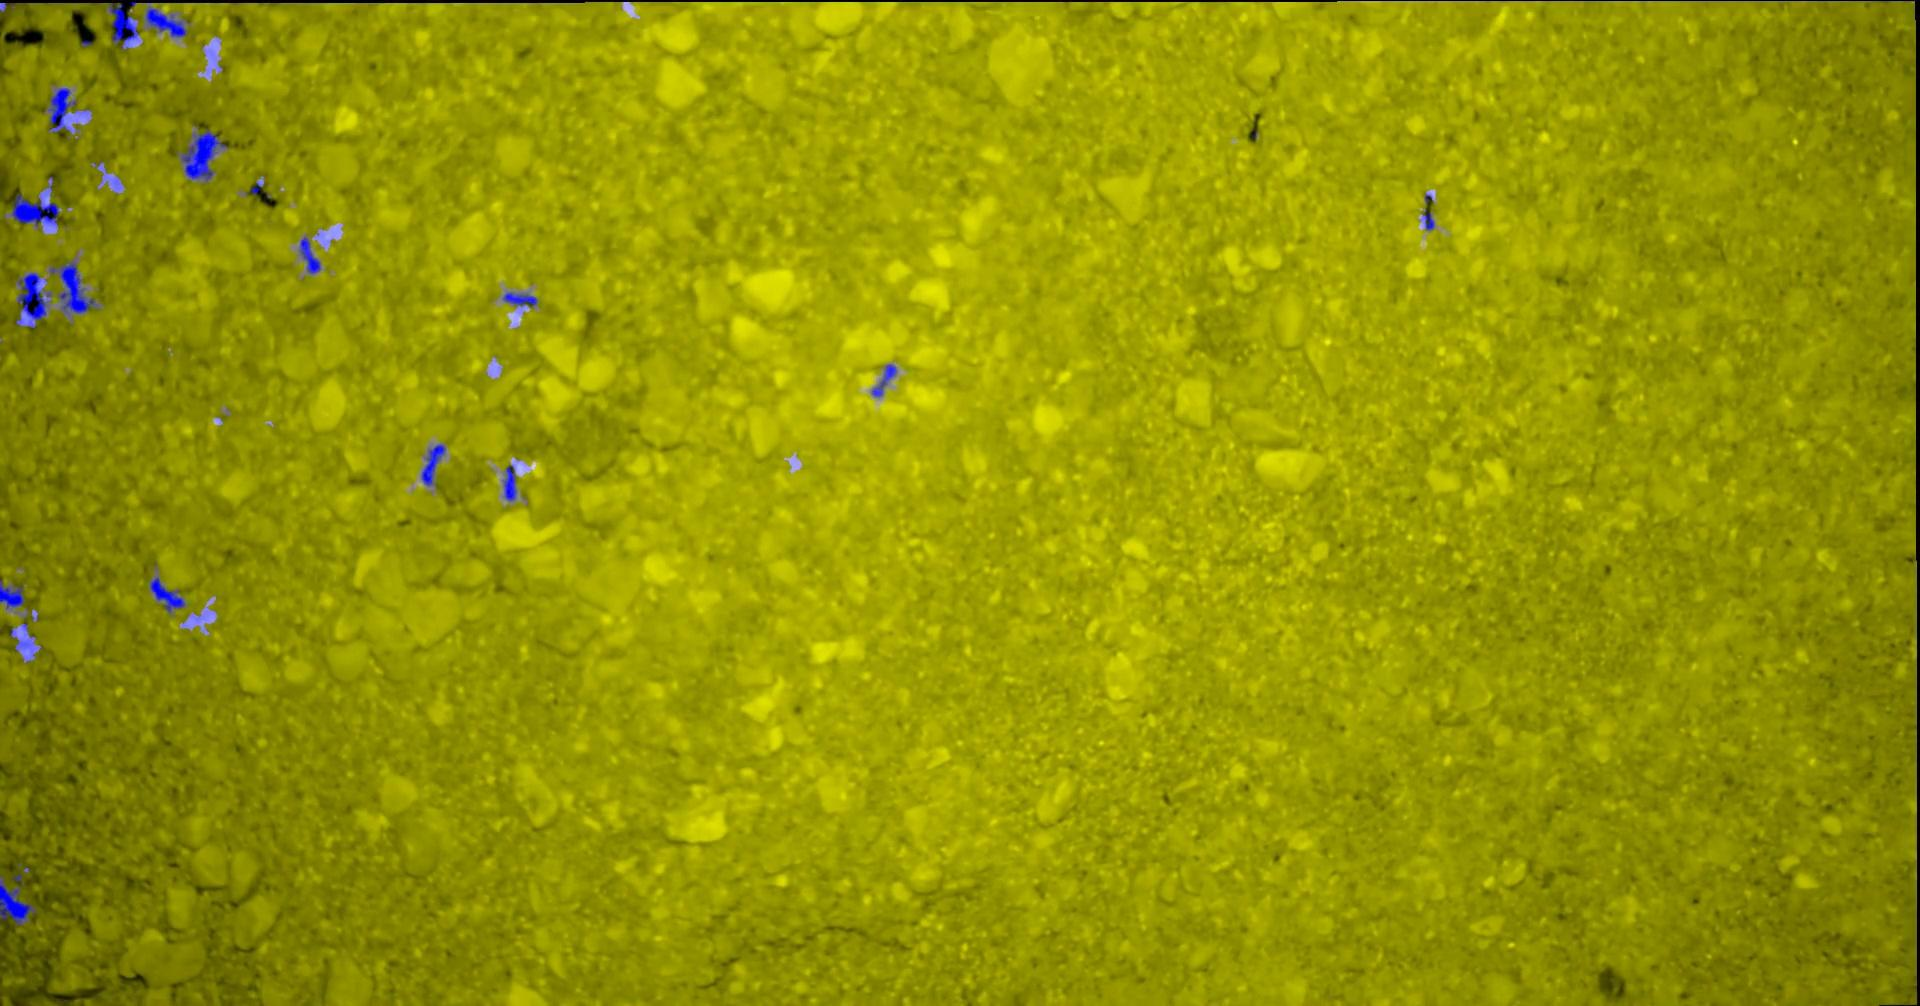ant: (50, 260, 97, 314), (17, 272, 51, 326), (0, 875, 36, 925), (11, 193, 58, 226), (145, 0, 187, 37), (107, 3, 138, 48), (149, 575, 185, 614), (47, 86, 75, 132), (422, 443, 444, 485), (871, 365, 897, 396), (298, 236, 320, 273), (0, 578, 24, 608), (502, 292, 536, 306), (503, 465, 516, 500), (1422, 210, 1434, 230), (14, 639, 32, 652)
